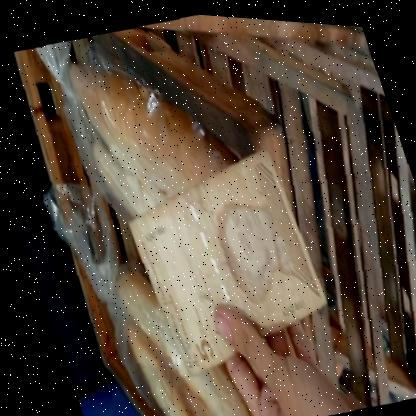five-front-vef: (107, 133, 339, 387)
